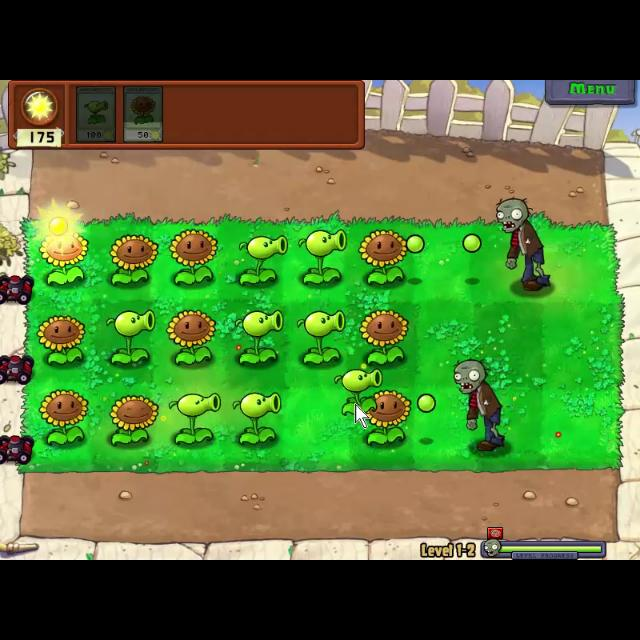Garden: (17, 214, 627, 476)
Menu Button: (542, 80, 636, 104)
Mower: (0, 431, 38, 469), (1, 270, 34, 306), (1, 353, 32, 387)
Peashooter: (74, 82, 118, 144)
Peashooter Seed: (165, 385, 225, 447), (104, 307, 160, 373), (298, 222, 352, 288), (232, 308, 286, 370), (296, 308, 352, 367), (237, 231, 290, 287), (232, 389, 282, 447)
Seed Panel: (8, 80, 366, 150)
Sun: (36, 200, 78, 250)
Sunflower: (122, 82, 166, 146)
Sunflower Seed: (361, 390, 419, 450), (167, 228, 220, 288), (360, 225, 410, 287), (360, 308, 410, 369), (37, 228, 91, 284), (35, 315, 91, 367), (106, 231, 156, 287), (106, 393, 156, 449), (167, 309, 216, 366), (40, 389, 86, 446)
Zombie: (449, 358, 513, 456), (494, 197, 556, 293)
